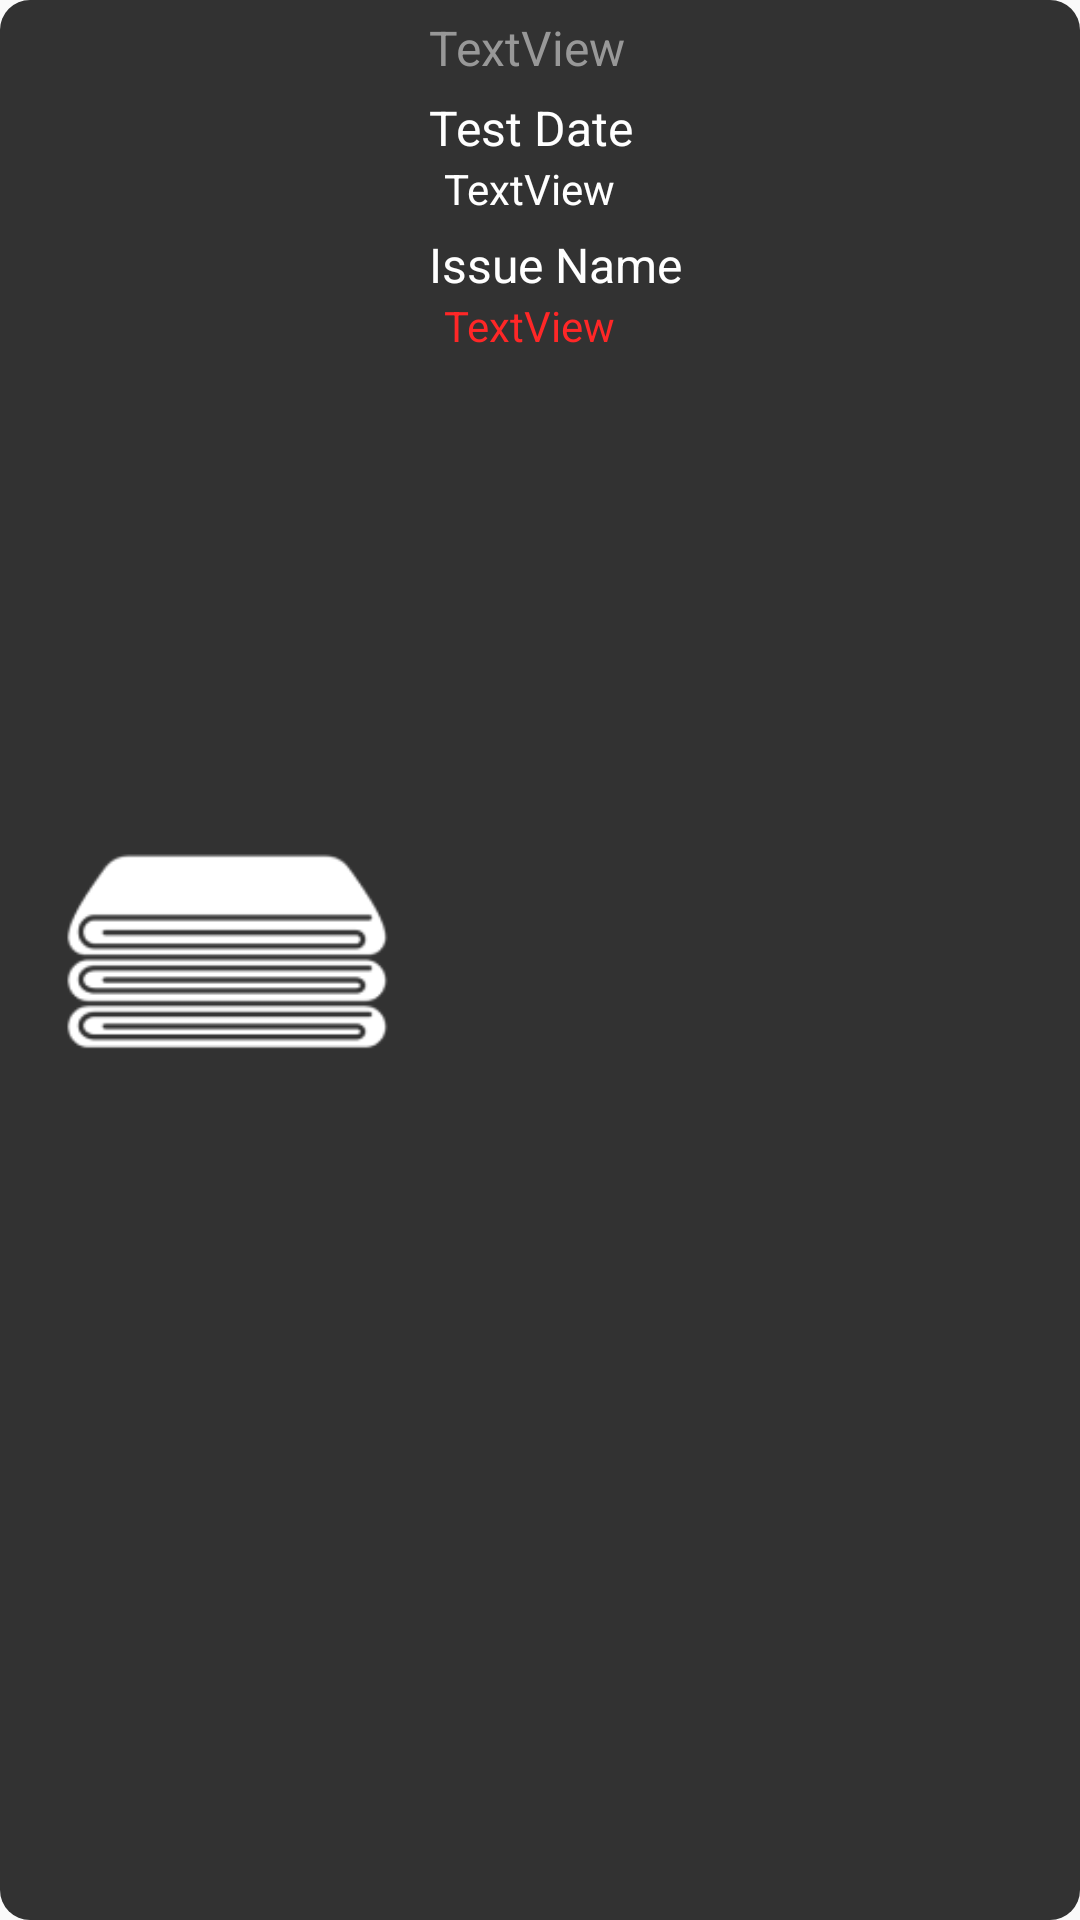

Where to tap for icons on this 1080px×1920px app screen, as point (x, y):
example fabric: point (227, 951)
